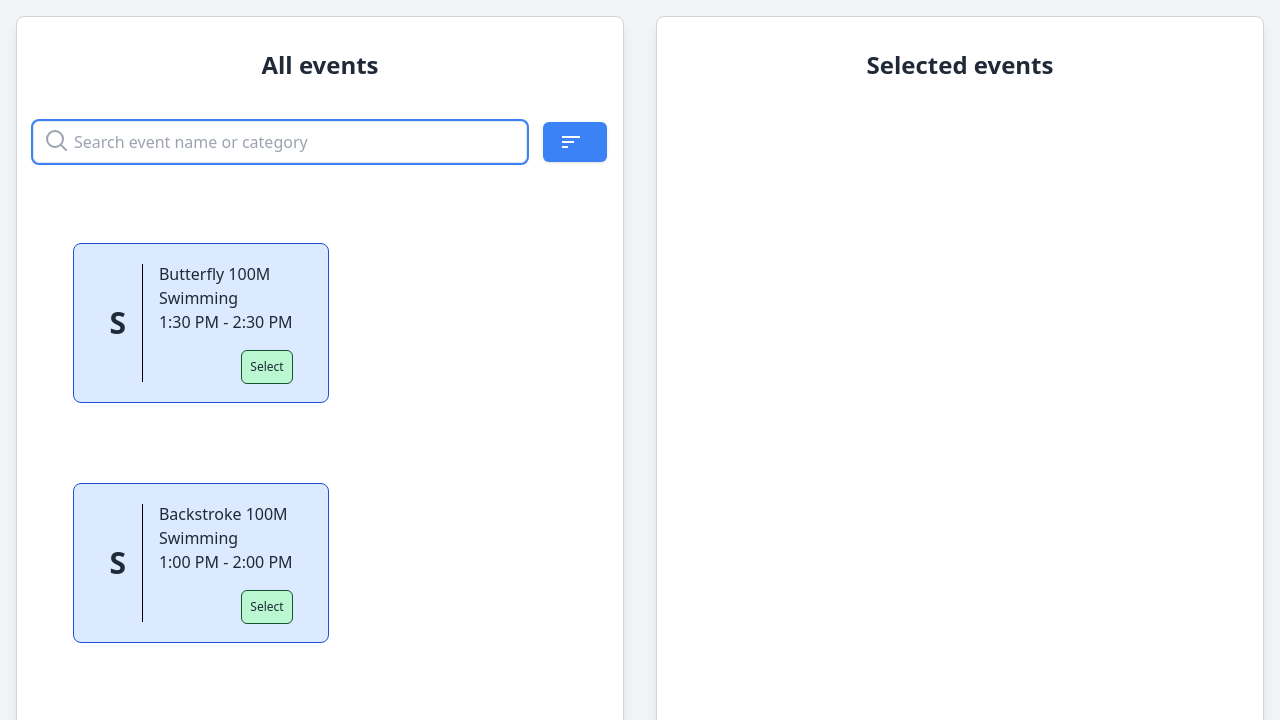
Test case: Events Component › filters events based on search term
Expected: the text "Butterfly 100M" is shown, left=159, top=263, right=270, bottom=285
Expected: the text "Backstroke 100M" is shown, left=159, top=502, right=293, bottom=526
In the field with placeholder "Search event name or category": (280, 142) left=33, top=121, right=527, bottom=163, type "Butterfly"
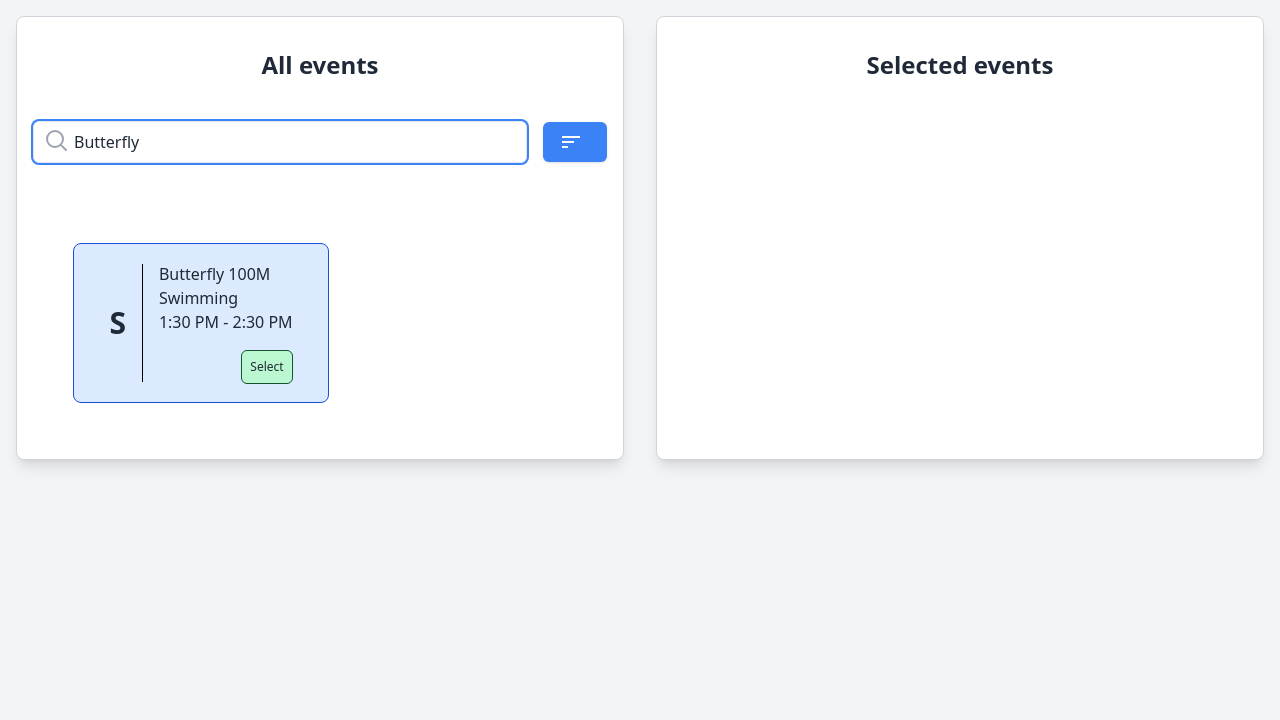
Expected: the text "Butterfly 100M" is shown, left=159, top=263, right=270, bottom=285
Expected: the text "Backstroke 100M" is gone
